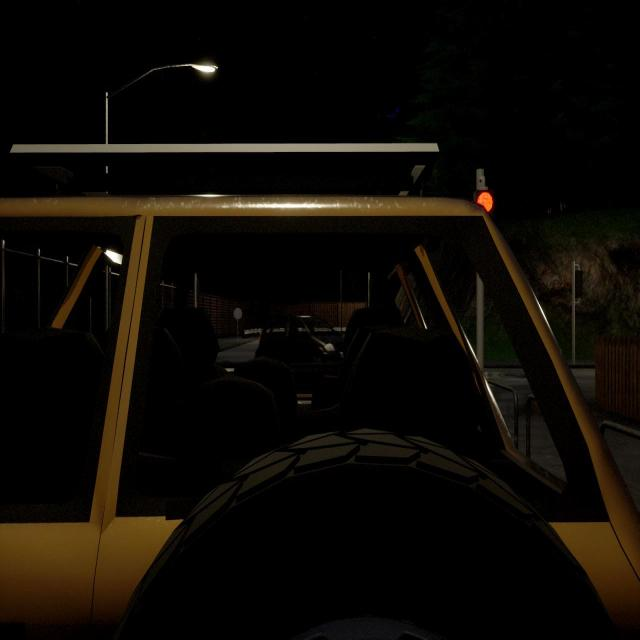Traffic_Signs: (233, 307, 242, 319)
Vehicle: (0, 142, 640, 640), (255, 317, 346, 369)
traffic_light: (474, 190, 492, 214), (574, 270, 582, 299), (197, 280, 200, 302)
